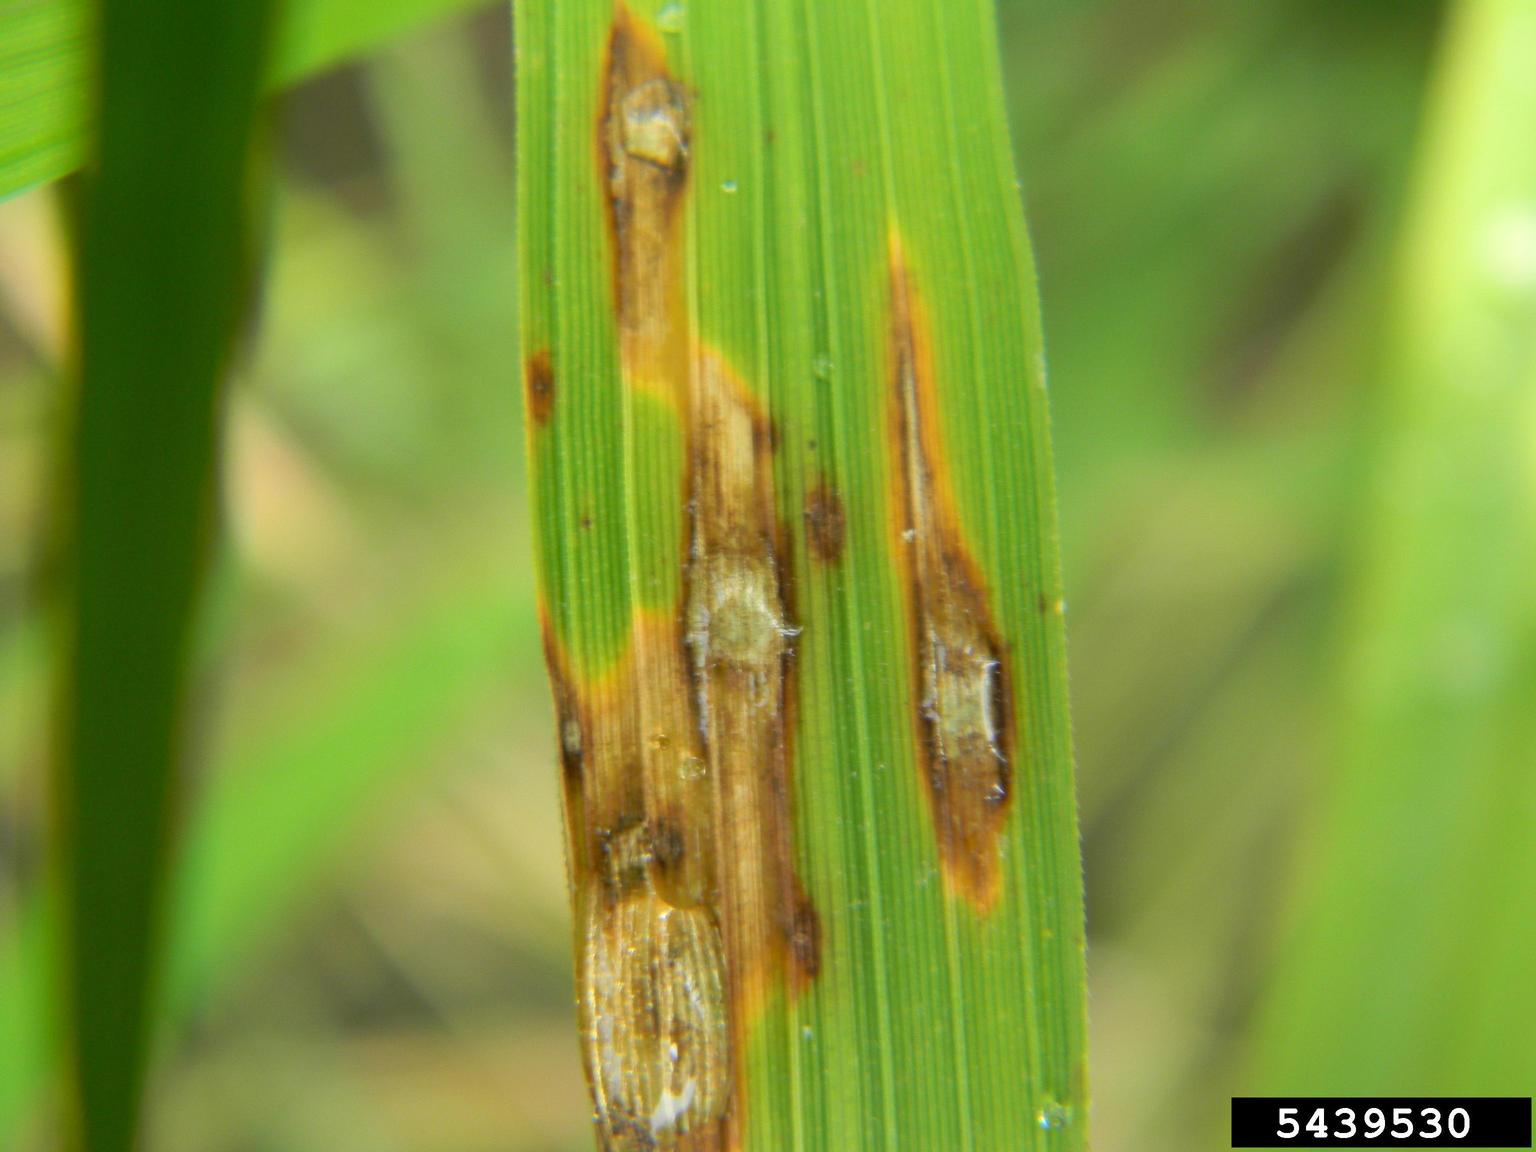Busuk Leher: (674, 356, 836, 964), (874, 296, 1030, 914), (567, 735, 737, 1150), (578, 4, 704, 349), (513, 332, 572, 440)
